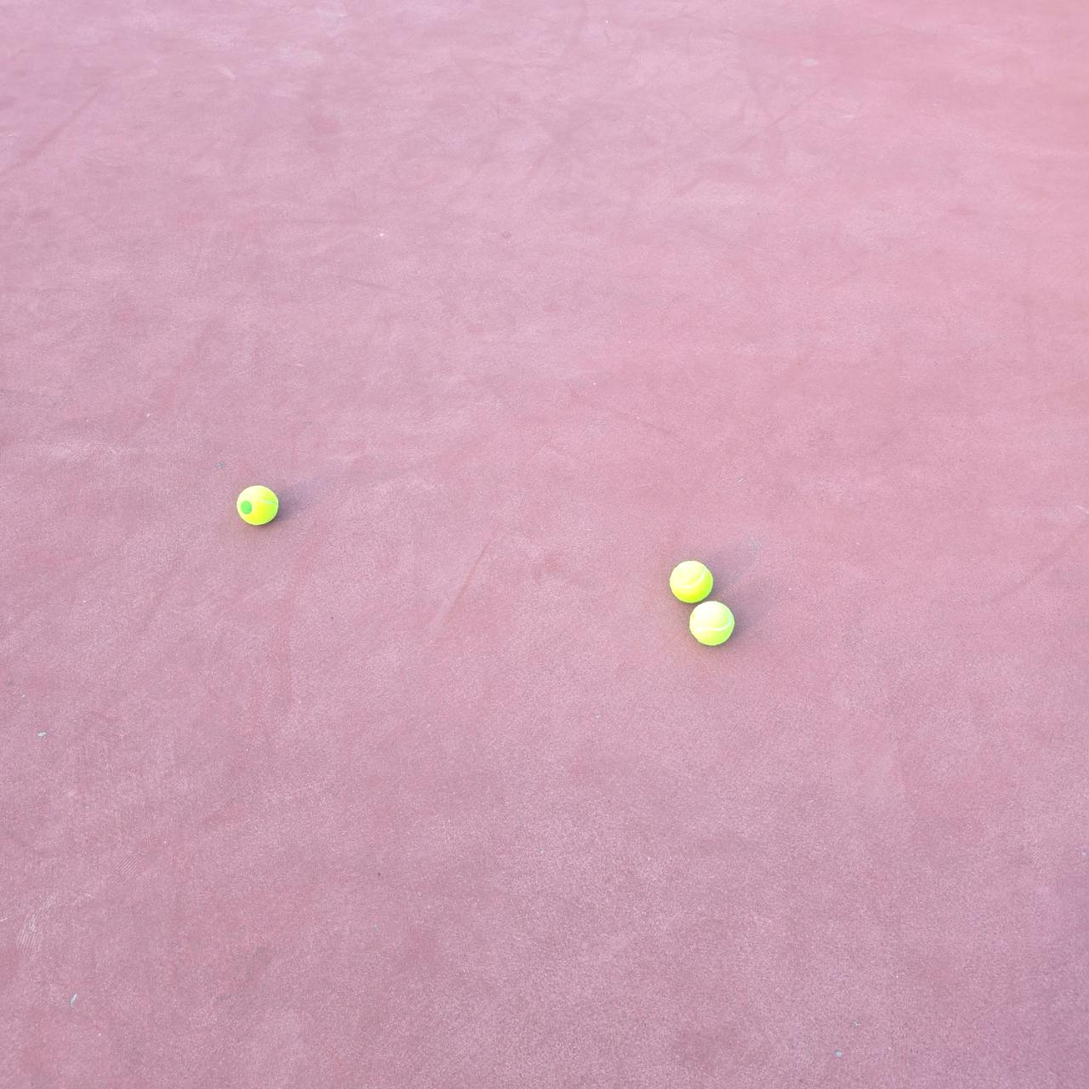tennis-ball: (687, 599, 735, 647), (668, 558, 714, 603), (234, 482, 279, 526)
